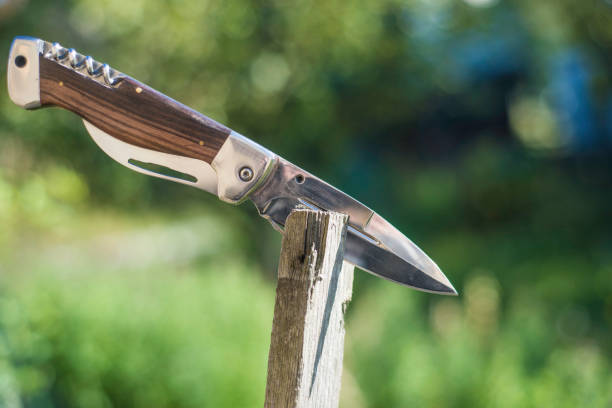knife: (5, 33, 460, 299)
